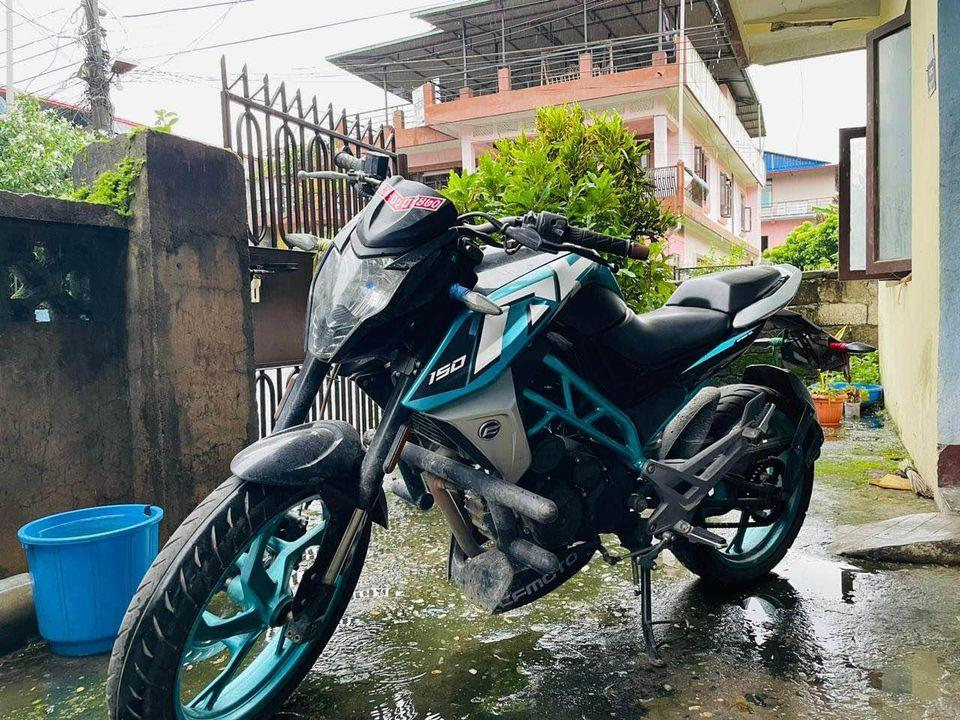bike: (96, 139, 832, 720)
